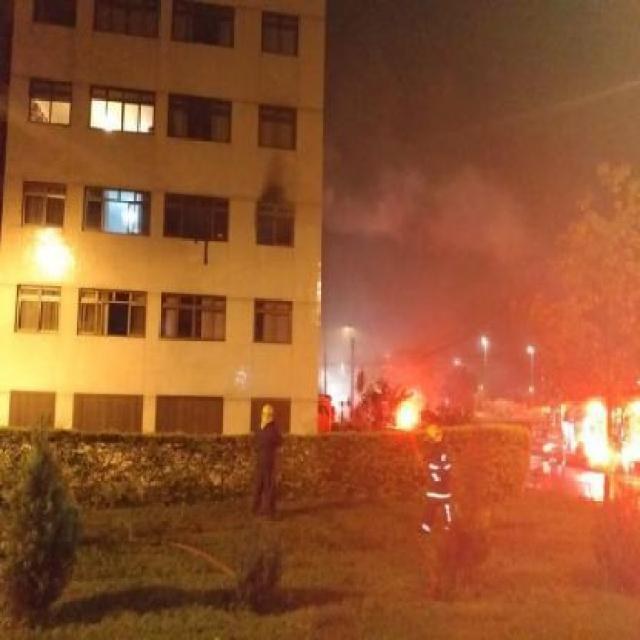Fire: (582, 398, 613, 466), (623, 398, 640, 469), (396, 392, 426, 428), (584, 474, 608, 502)
